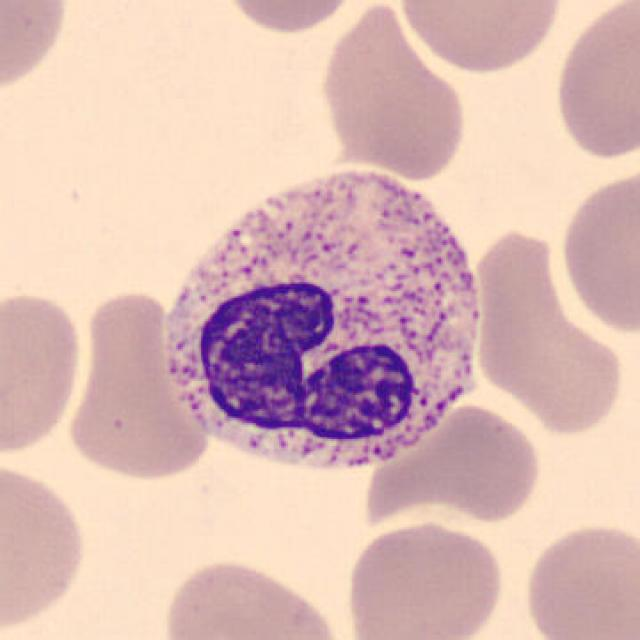Neutrophil: (146, 150, 501, 499)
RBC: (475, 227, 623, 438), (62, 286, 215, 487), (313, 0, 473, 183), (341, 516, 506, 640), (398, 400, 546, 527), (0, 456, 92, 636), (158, 553, 348, 640), (0, 288, 87, 460), (519, 518, 638, 640), (555, 164, 638, 338), (550, 0, 638, 164), (395, 0, 565, 76), (0, 0, 73, 99), (215, 0, 366, 37)
